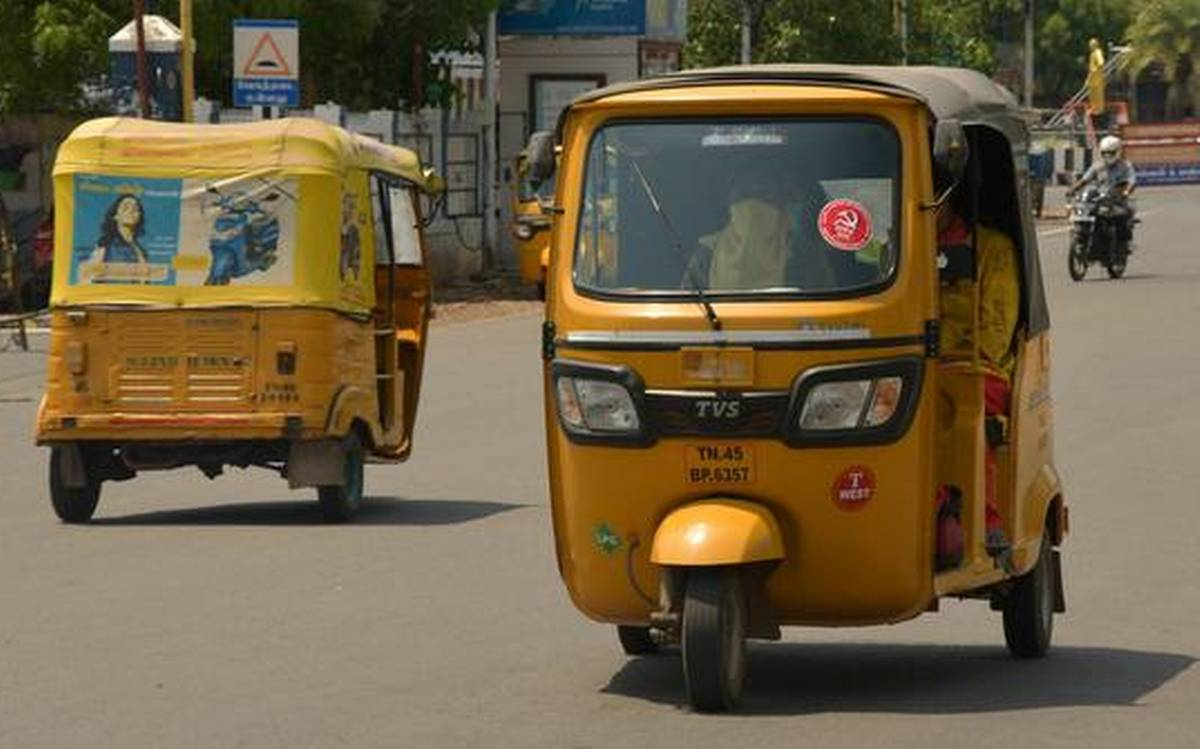Auto rickshaw: (517, 73, 1072, 715), (49, 121, 442, 530)
Bike: (1066, 173, 1139, 280)
